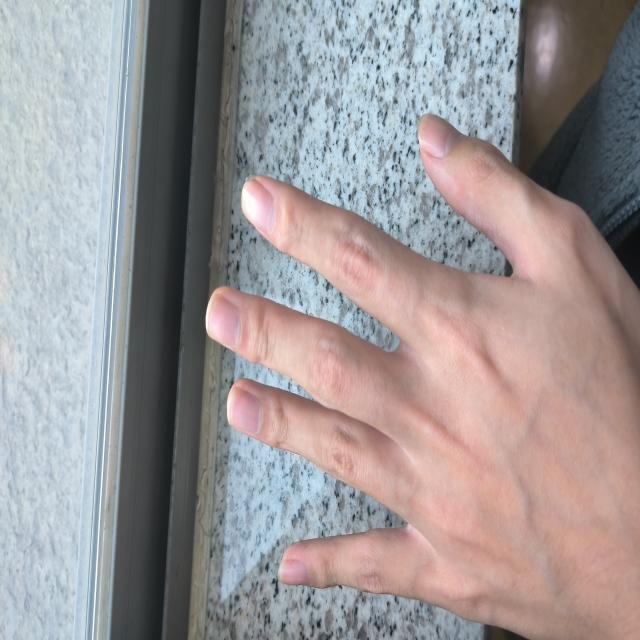Nail: (418, 113, 460, 157), (206, 295, 241, 347), (242, 180, 274, 233), (227, 389, 262, 434), (278, 558, 310, 585)
